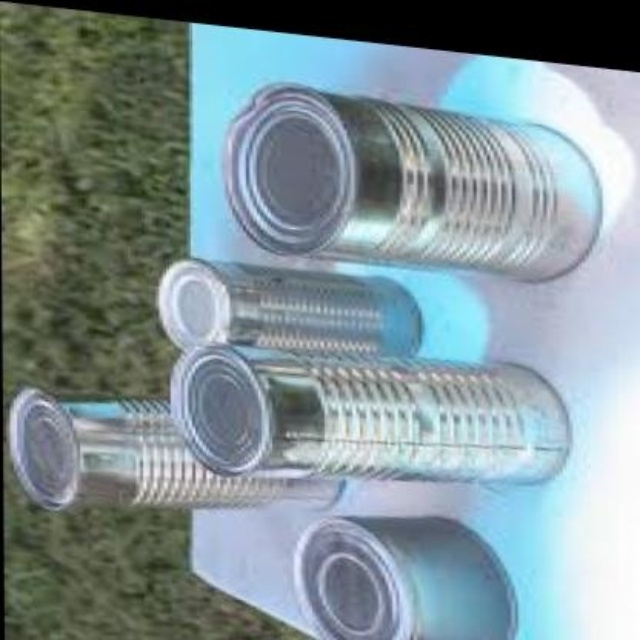trash: (225, 85, 600, 280), (171, 346, 568, 480), (192, 502, 515, 638), (8, 388, 337, 509), (157, 260, 423, 355)
